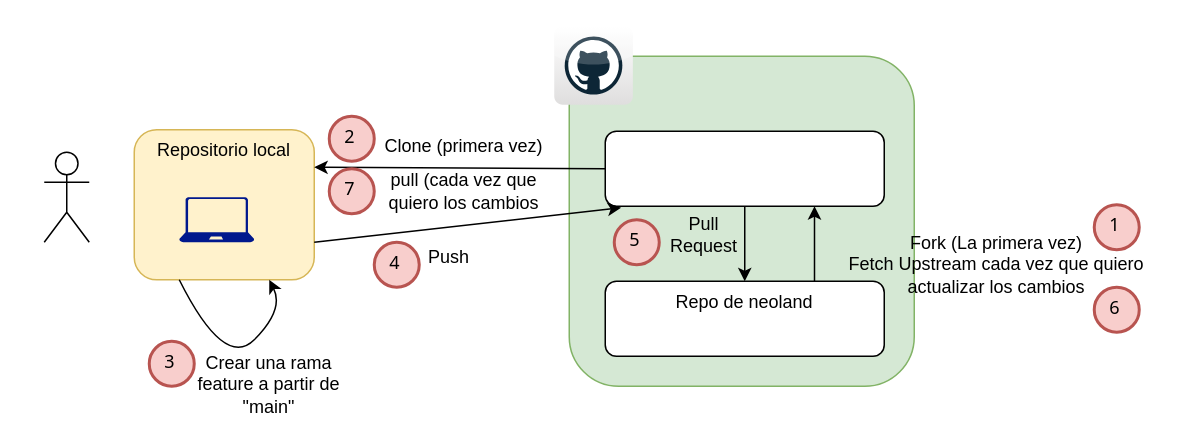
Some shapes in this 1181 by 443 pixel diagram are drawn without their labels. Each missing label, with the centre of its shape:
Developer: pixel 66 196
Vuestro repo remoto: pixel 744 168
